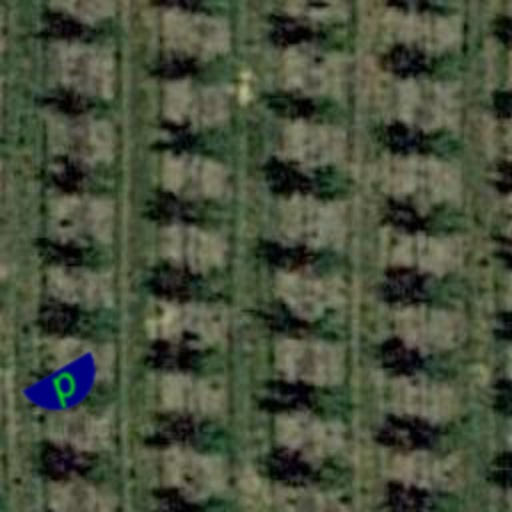semicircle: (12, 334, 120, 442)
